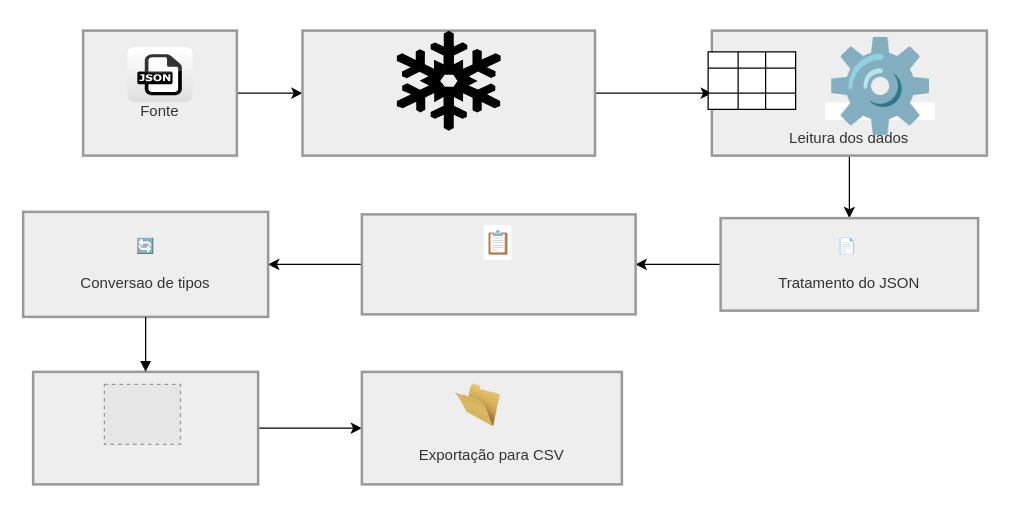
The diagram is 1009 pixels wide and 508 high, and some of its shapes have lost their labels. Grey dashed boxes stand in for pictures. The box of each missing label's shape, as (x1, y1, x2, y2) in pixels:
Criacao do DataFrame: (360, 212, 636, 315)
Snowflake: (301, 29, 596, 156)
Validação: (31, 370, 259, 485)
